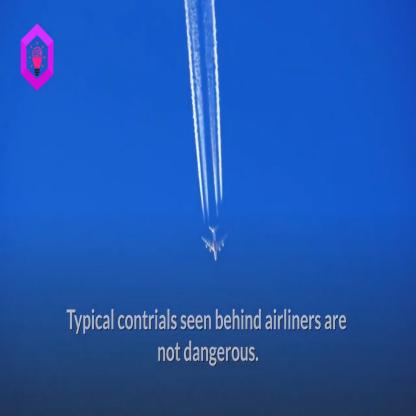plane: (199, 222, 236, 266)
